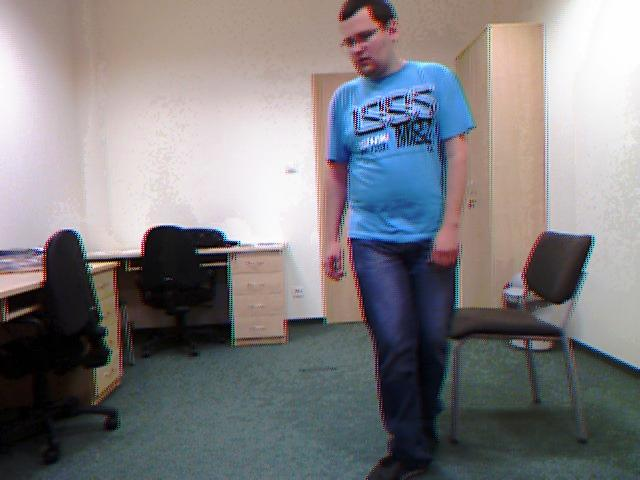walking: (321, 0, 483, 480)
